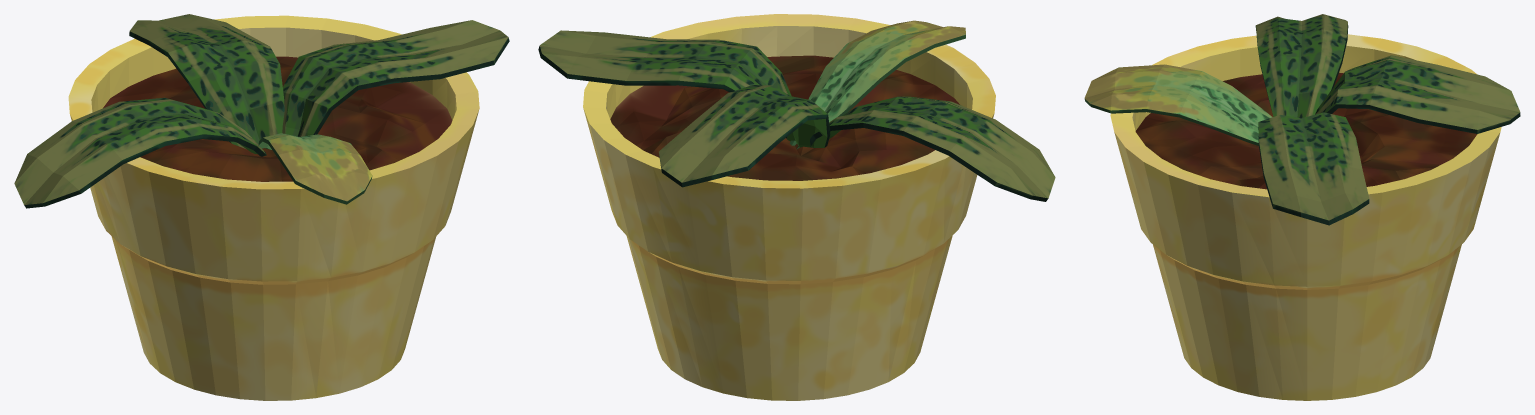
The model's file is Phalaenopsis_Horrible_End.glb.
3 views of the same model, side by side, from view 1: azimuth 30°, elevation 25°; view 2: azimuth 150°, elevation 25°; view 3: azimuth 270°, elevation 25° (orthographic). The views are drawn at different scales.
Visible parts, largest first — view 1: Pot, Plant; view 2: Pot, Plant; view 3: Pot, Plant.
Boxes of the visible parts, left/top/right/bottom form: Pot: left=68, top=15, right=479, bottom=400; Plant: left=14, top=14, right=509, bottom=208; Pot: left=583, top=14, right=995, bottom=400; Plant: left=538, top=20, right=1055, bottom=201; Pot: left=1110, top=34, right=1501, bottom=400; Plant: left=1084, top=14, right=1520, bottom=225.
Size of the model in its own units: 2.83 by 1.54 by 2.27.
3 materials, 3 textured.
